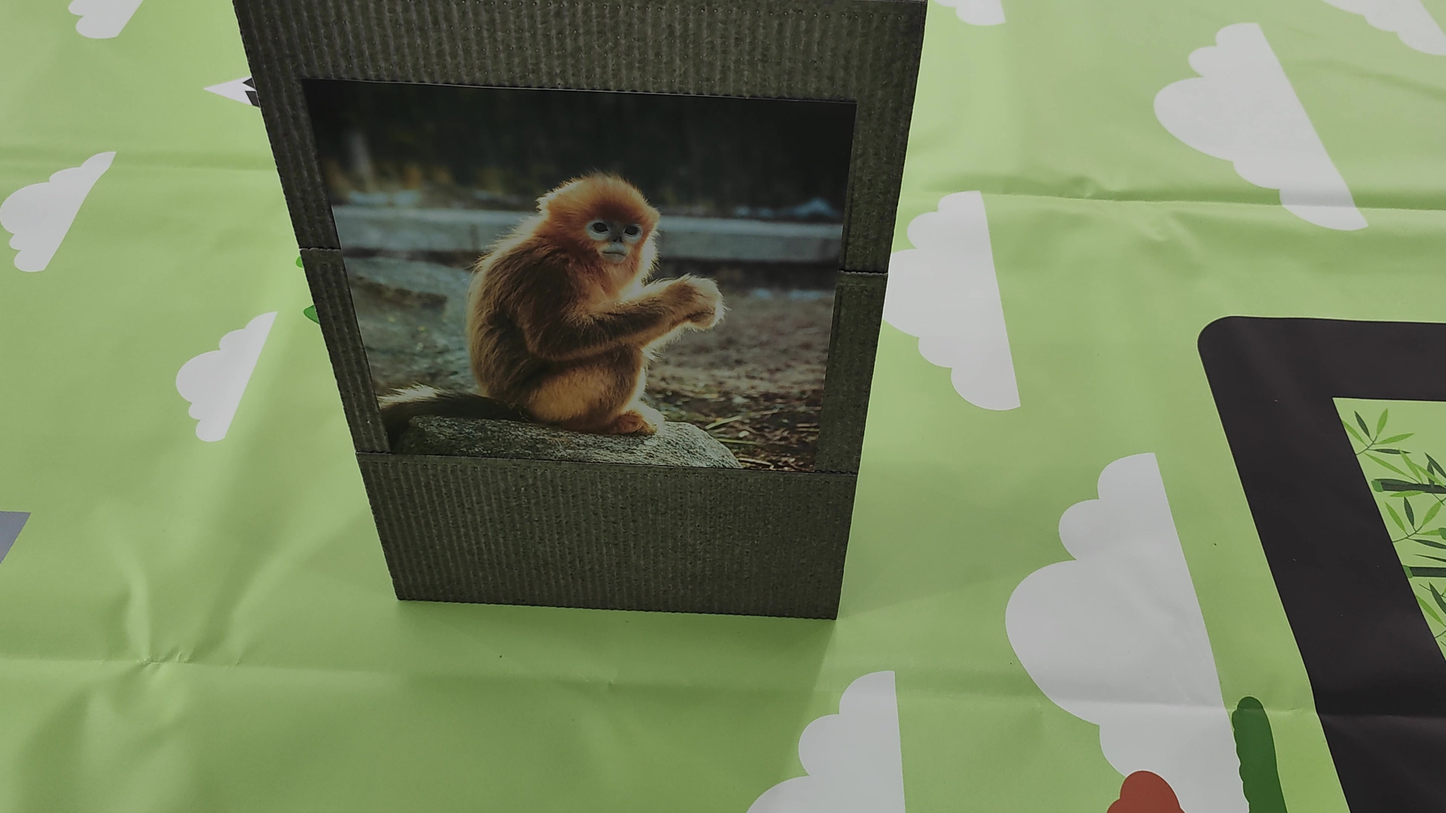monkey: (425, 128, 753, 453)
